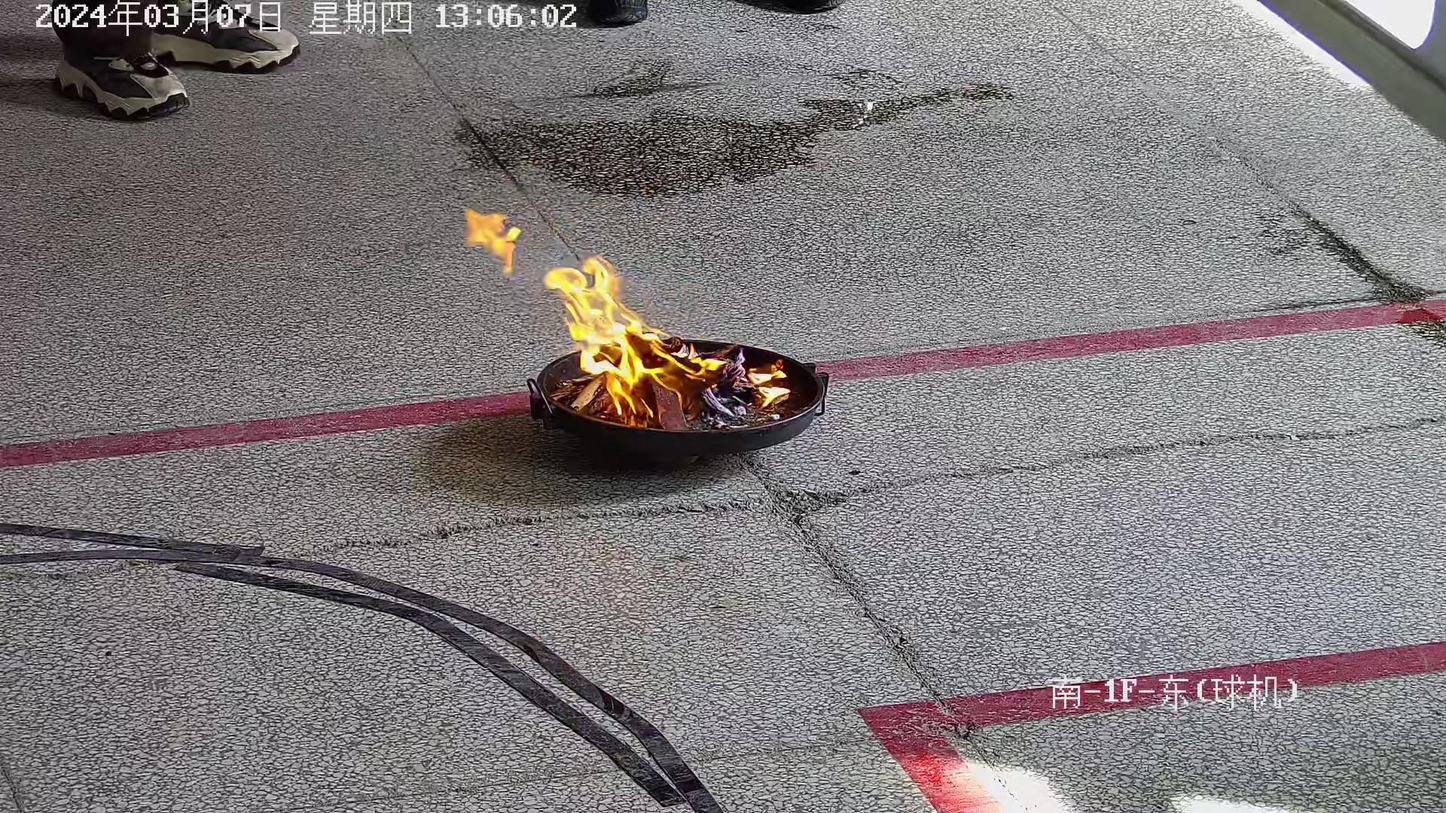fire: (544, 257, 788, 428), (465, 210, 520, 273)
